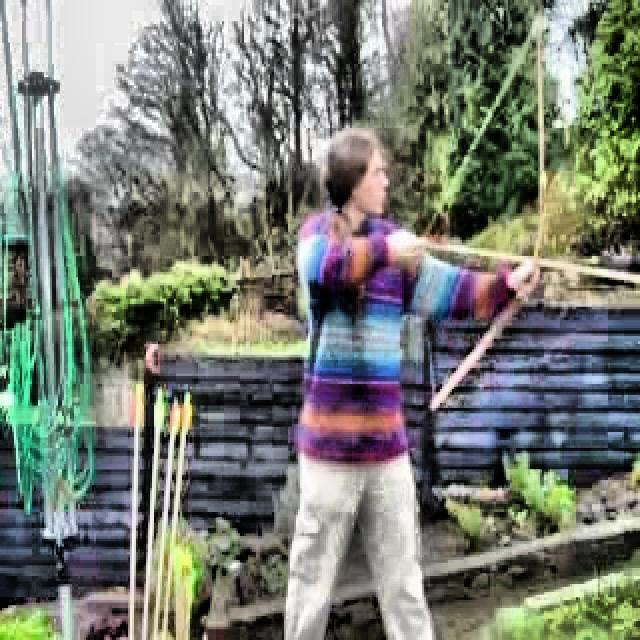I: (278, 115, 545, 640)
